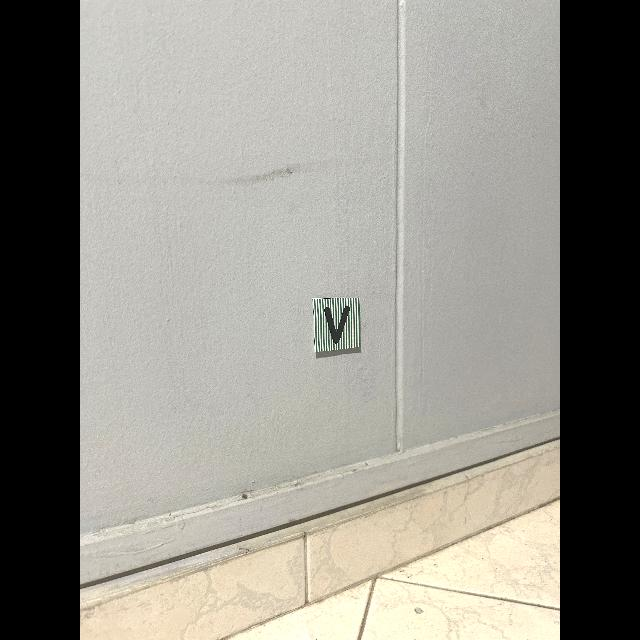V: (324, 305, 350, 344)
